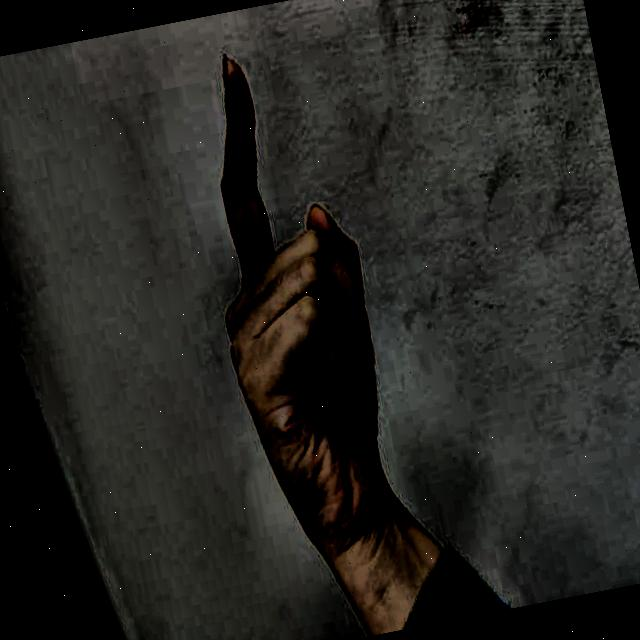U: (150, 22, 427, 566)
